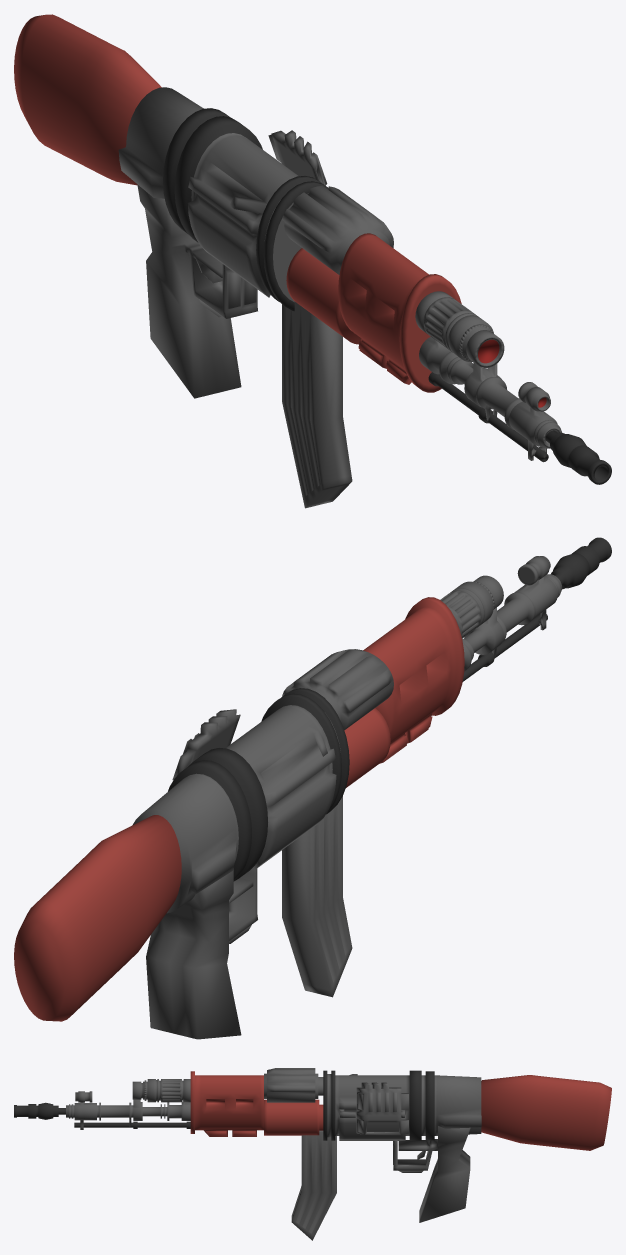
File: AK-47_Aksesoris_Depan1.fbx
The picture shows the model from 3 angles, top to bottom: view 1: azimuth 30°, elevation 25°; view 2: azimuth 150°, elevation 25°; view 3: azimuth 270°, elevation 25°; orthographic projection. The views are drawn at different scales.
Visible parts, largest first — view 1: Objek AK47 9, Objek AK47 11, Objek AK47 10, Objek AK47 12, Objek AK47 6, Objek AK47 7, Objek AK47 2, Objek AK47 1, Objek AK47 5, Cylinder.001, Objek AK47 3, Objek AK47 4; view 2: Objek AK47 9, Objek AK47 11, Objek AK47 10, Objek AK47 12, Objek AK47 6, Objek AK47 7, Objek AK47 2, Objek AK47 5, Objek AK47 1, Cylinder.001, Objek AK47 3, Objek AK47 4; view 3: Objek AK47 9, Objek AK47 11, Objek AK47 6, Objek AK47 10, Objek AK47 12, Objek AK47 5, Objek AK47 2, Objek AK47 7, Objek AK47 1, Objek AK47 3, Cylinder.001.
Part boxes in pixels (x1,y1,x2,y2): Objek AK47 9: (118,87,328,311); Objek AK47 11: (14,14,161,185); Objek AK47 10: (137,184,257,398); Objek AK47 12: (282,301,352,508); Objek AK47 6: (338,233,461,392); Objek AK47 7: (282,185,393,274); Objek AK47 2: (419,336,562,460); Objek AK47 1: (415,291,504,367); Objek AK47 5: (286,248,361,344); Cylinder.001: (545,430,611,484); Objek AK47 3: (428,372,548,462); Objek AK47 4: (518,382,550,411); Objek AK47 9: (132,688,349,913); Objek AK47 11: (14,815,181,1021); Objek AK47 10: (146,867,257,1039); Objek AK47 12: (282,796,352,997); Objek AK47 6: (363,597,464,763); Objek AK47 7: (282,649,393,730); Objek AK47 2: (462,574,561,671); Objek AK47 5: (344,708,390,787); Objek AK47 1: (440,575,503,638); Cylinder.001: (551,537,611,589); Objek AK47 3: (462,614,547,681); Objek AK47 4: (517,556,550,585); Objek AK47 9: (323,1070,481,1140); Objek AK47 11: (481,1075,611,1150); Objek AK47 6: (190,1071,263,1136); Objek AK47 10: (393,1126,470,1222); Objek AK47 12: (291,1130,336,1240); Objek AK47 5: (264,1099,323,1135); Objek AK47 2: (66,1099,190,1129); Objek AK47 7: (264,1068,323,1102); Objek AK47 1: (132,1079,190,1102); Objek AK47 3: (74,1121,190,1128); Cylinder.001: (14,1102,65,1119).
Size of the model in its own units: 76.41 by 213 by 692.
